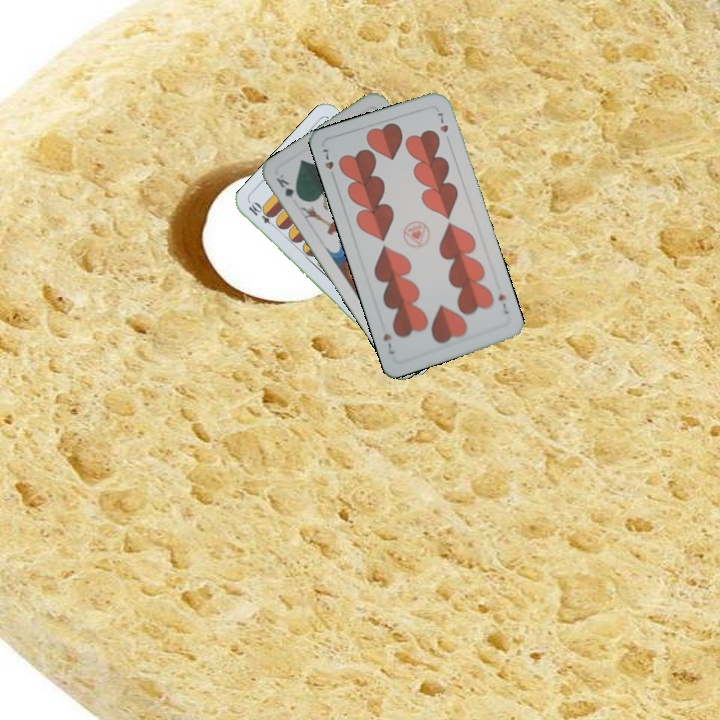E10: (244, 199, 280, 231)
GK: (272, 170, 304, 203)
H7: (318, 145, 338, 183), (494, 290, 511, 317)
